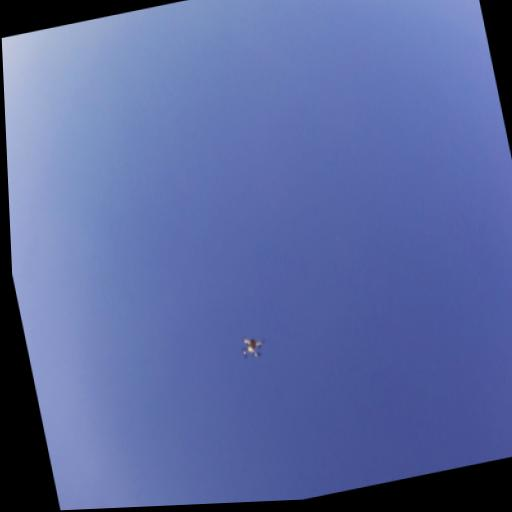drones: (236, 328, 268, 364)
